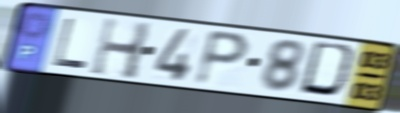4: (152, 26, 193, 83)
8: (260, 37, 307, 95)
D: (296, 40, 362, 102)
H: (88, 15, 155, 82)
L: (50, 15, 89, 71)
P: (191, 27, 252, 89)
